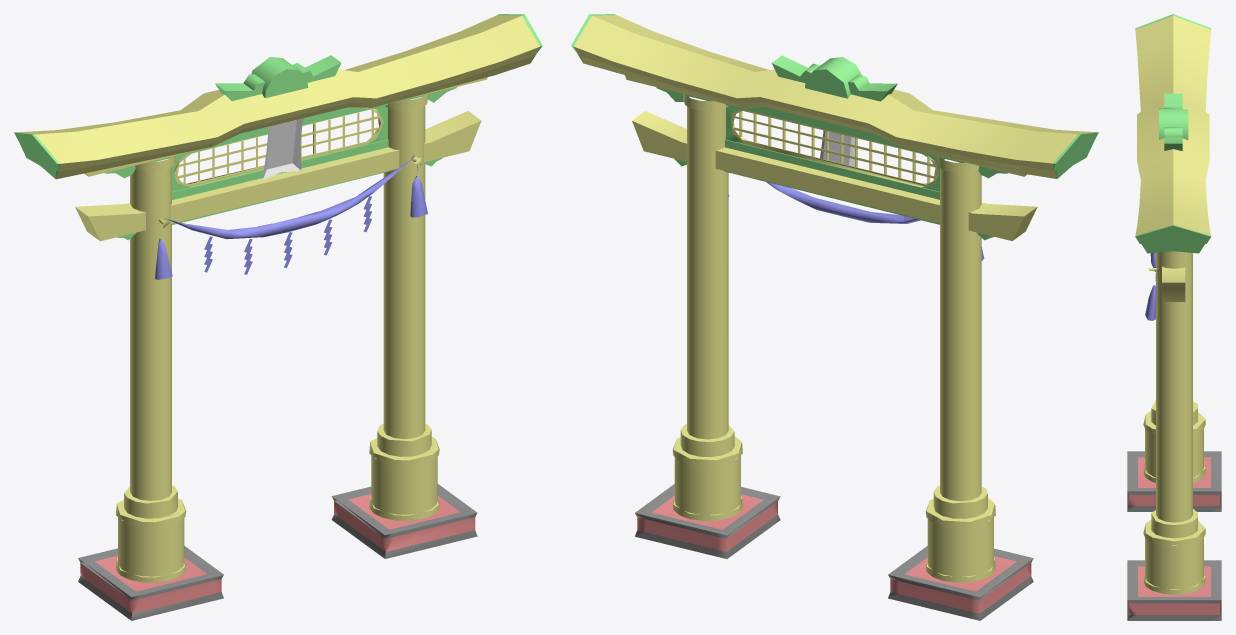
File: SM_ENV_LKNVLD_Torii_Sun_Lod3.gltf
3 renders of one model, left to right at view 1: azimuth 30°, elevation 25°; view 2: azimuth 150°, elevation 25°; view 3: azimuth 270°, elevation 25°, orthographic. The views are drawn at different scales.
Visible parts, largest first — view 1: SM_ENV_LKNVLD_Torii_Sun_Lod3; view 2: SM_ENV_LKNVLD_Torii_Sun_Lod3; view 3: SM_ENV_LKNVLD_Torii_Sun_Lod3.
Part boxes in pixels (<box>): SM_ENV_LKNVLD_Torii_Sun_Lod3: <box>14,14,542,620</box>; SM_ENV_LKNVLD_Torii_Sun_Lod3: <box>571,14,1098,620</box>; SM_ENV_LKNVLD_Torii_Sun_Lod3: <box>1127,14,1221,620</box>.
Size of the model in its own units: 13.61 by 13.11 by 2.56.
